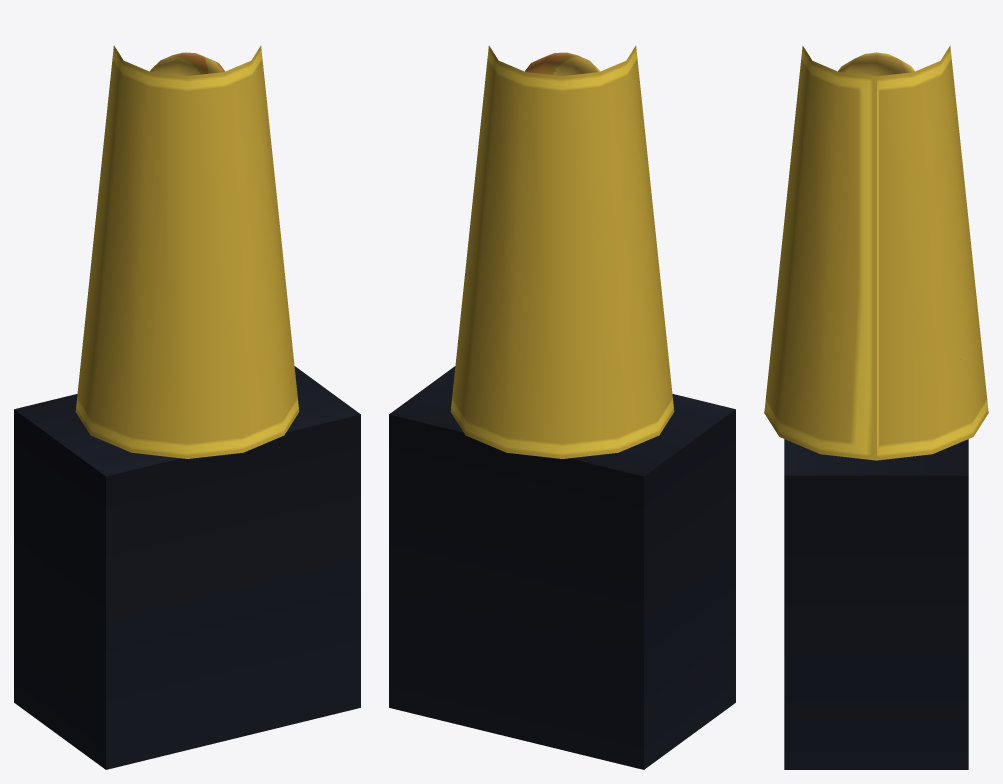
File: bazaar_stele.glb
The picture shows the model from 3 angles, left to right: view 1: azimuth 30°, elevation 25°; view 2: azimuth 150°, elevation 25°; view 3: azimuth 270°, elevation 25°; orthographic projection.
Visible parts, largest first — view 1: bazaar_stele; view 2: bazaar_stele; view 3: bazaar_stele.
Boxes of the visible parts, x1,y1,x2,y2 form: bazaar_stele: (14,45,360,769); bazaar_stele: (389,45,735,769); bazaar_stele: (764,45,988,769).
Size of the model in its own units: 0.8 by 1.98 by 0.608.
Materials: 1 (1 with a texture image).
